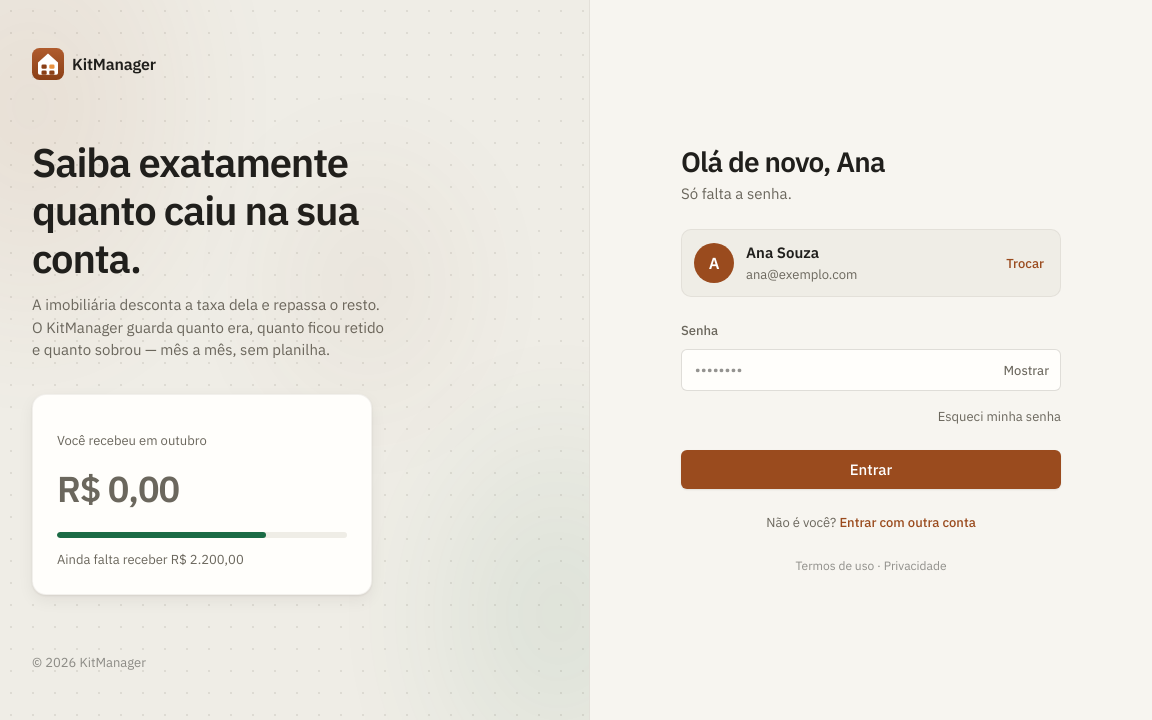
Test: Login com perfil lembrado › o rodapé também oferece entrar com outra conta
Click the button "Entrar com outra conta".
click(908, 523)  # box [839,513,976,533]
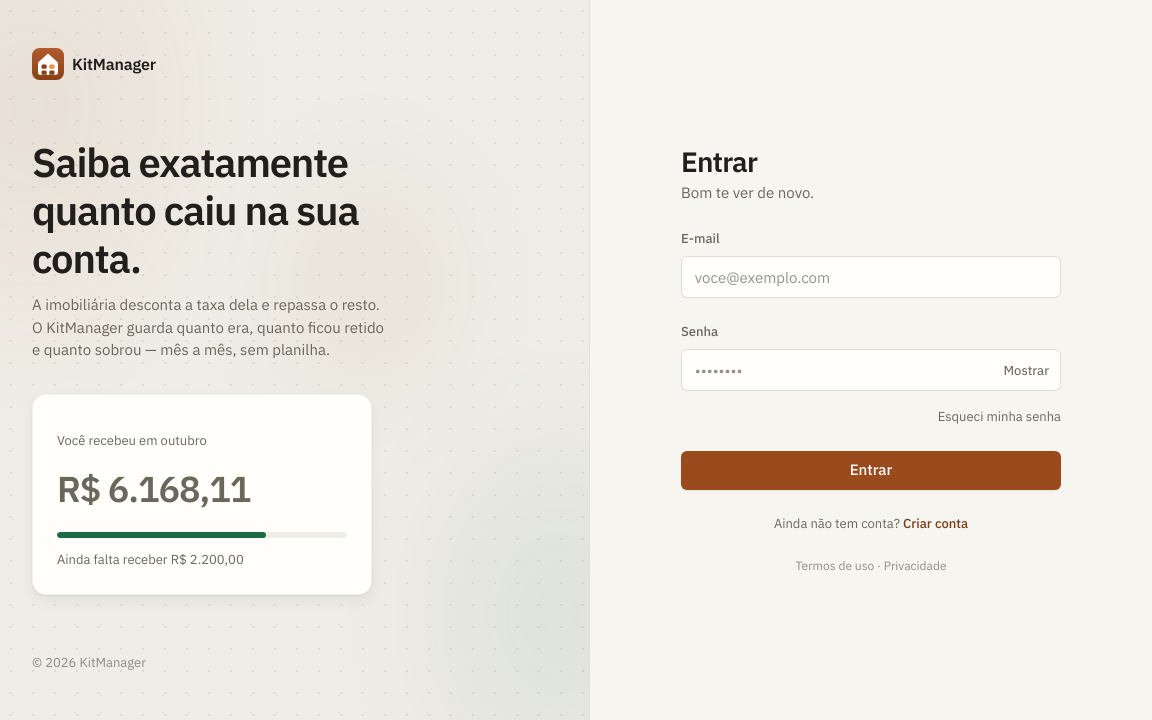
Result: the field labelled "E-mail" is shown at [681,256,1061,298]
